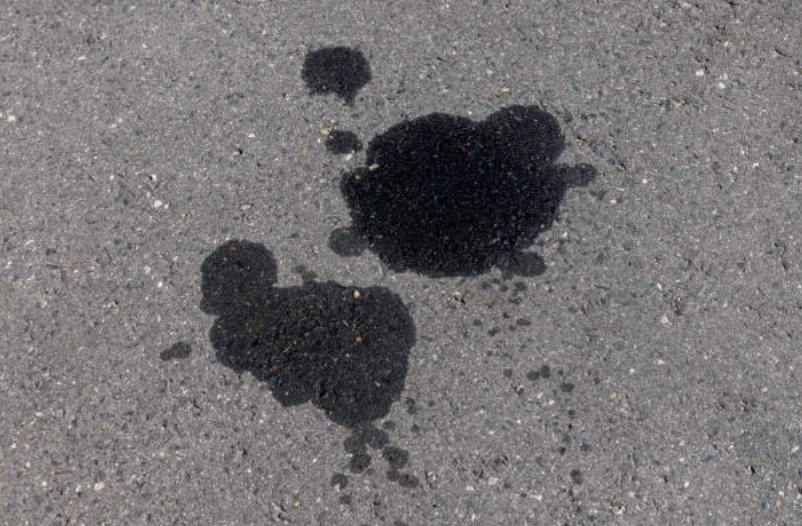oil: (99, 119, 214, 243), (163, 54, 299, 141), (149, 21, 187, 52)
